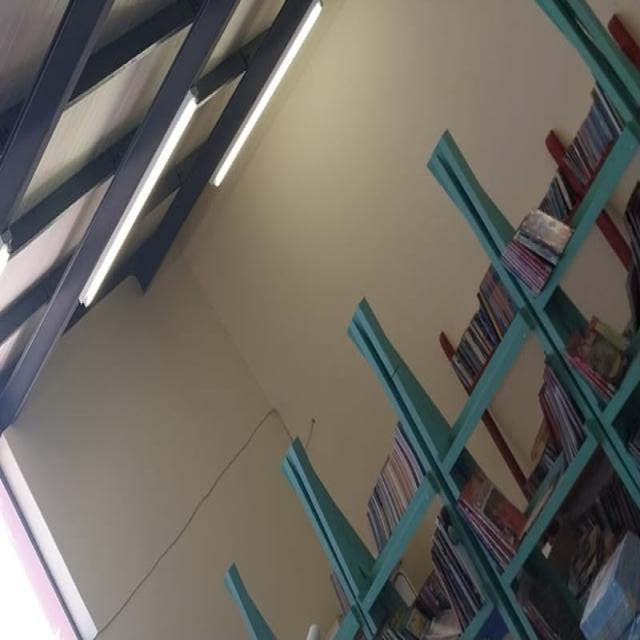fluorescent tube: (56, 46, 218, 363), (204, 0, 374, 235), (0, 182, 42, 533), (0, 0, 84, 97)
